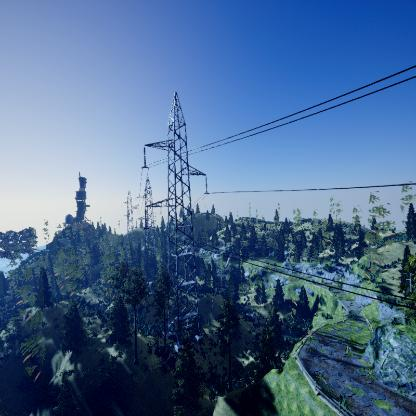tower: (139, 93, 212, 352)
